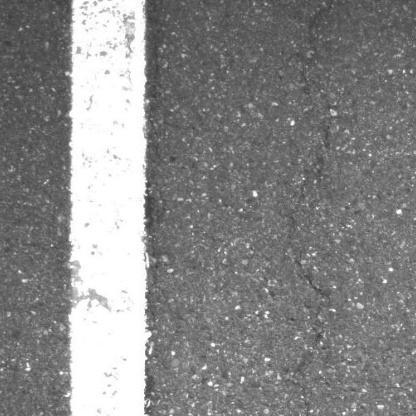Cracks: (285, 0, 342, 416)
